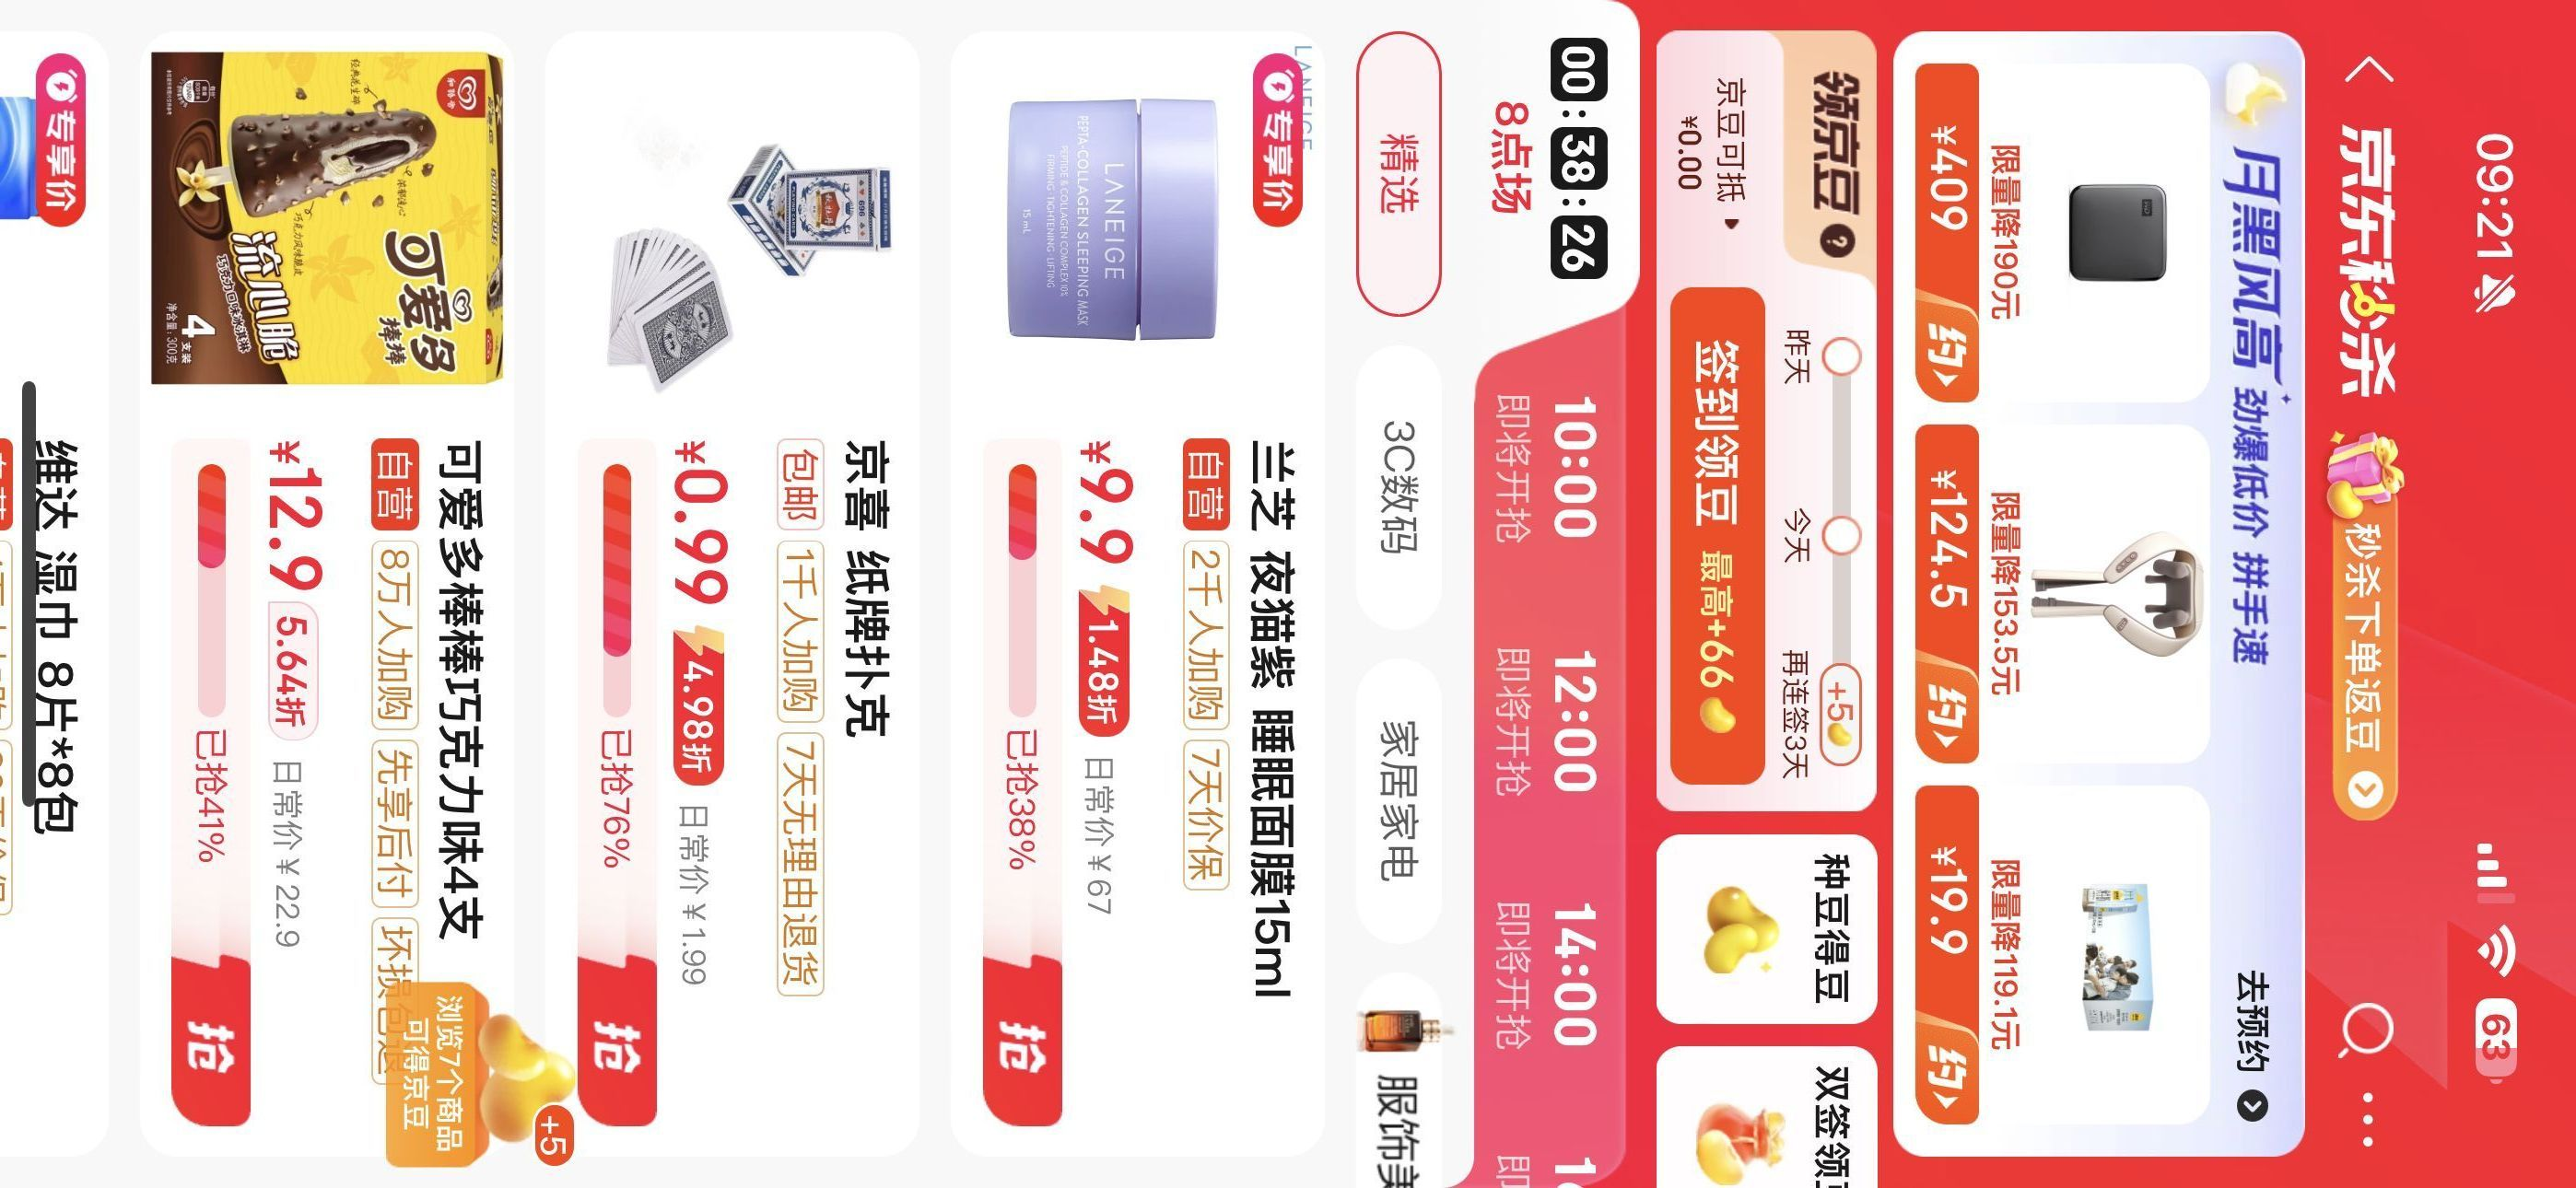item: (130, 2, 541, 1188), (938, 2, 1342, 1186), (539, 2, 936, 1188)
op_bar: (2316, 2, 2430, 1188)
seckill: (1653, 2, 2308, 1181)
